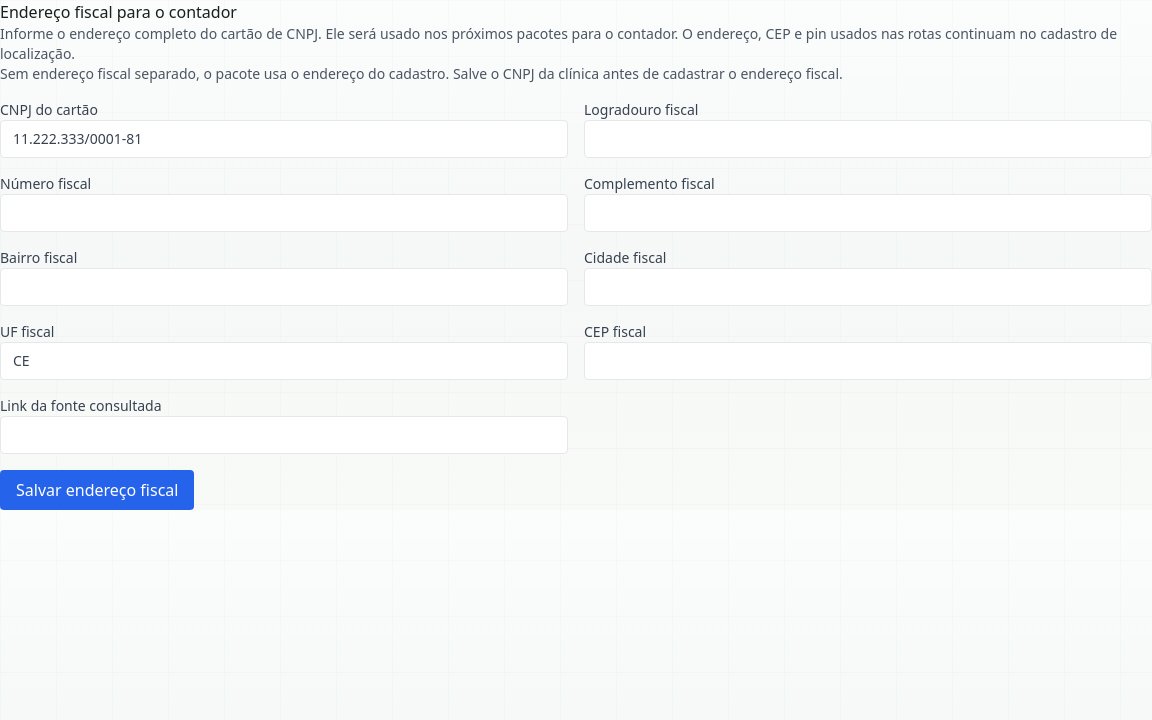
it: endereço fiscal separado da localização › exibe erro de gravação junto ao formulário e permite corrigir
Expected: the field labelled "CEP fiscal" is shown, [584,342,1151,380]
Step 1. Click the button "Salvar endereço fiscal" → (97, 490), box [0,470,194,510]
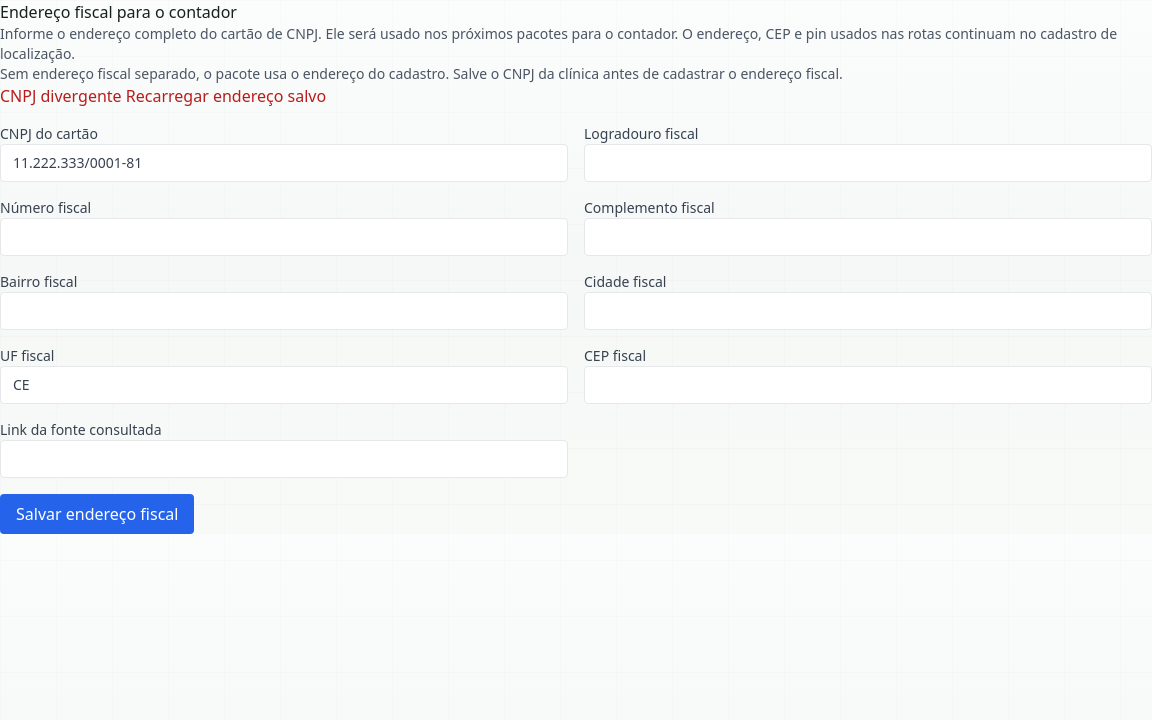
Expected: the button "Salvar endereço fiscal" is enabled, [0,494,194,534]
Expected: the message shows "CNPJ divergente", [0,85,122,107]
